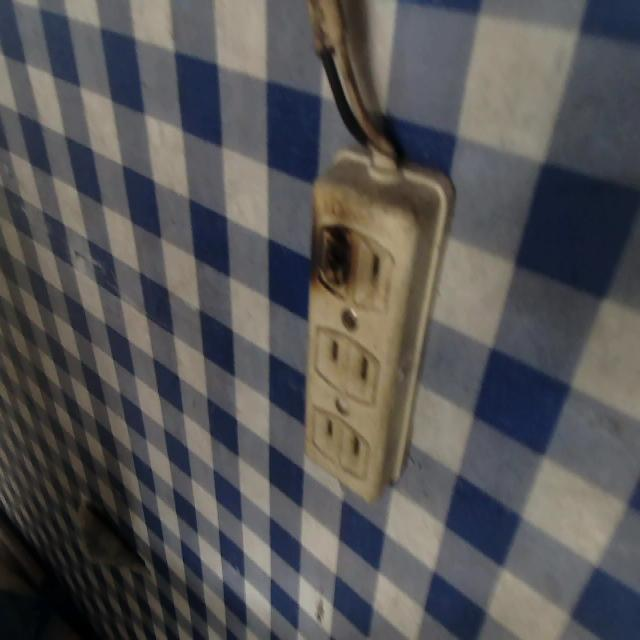-: (306, 211, 362, 304)
